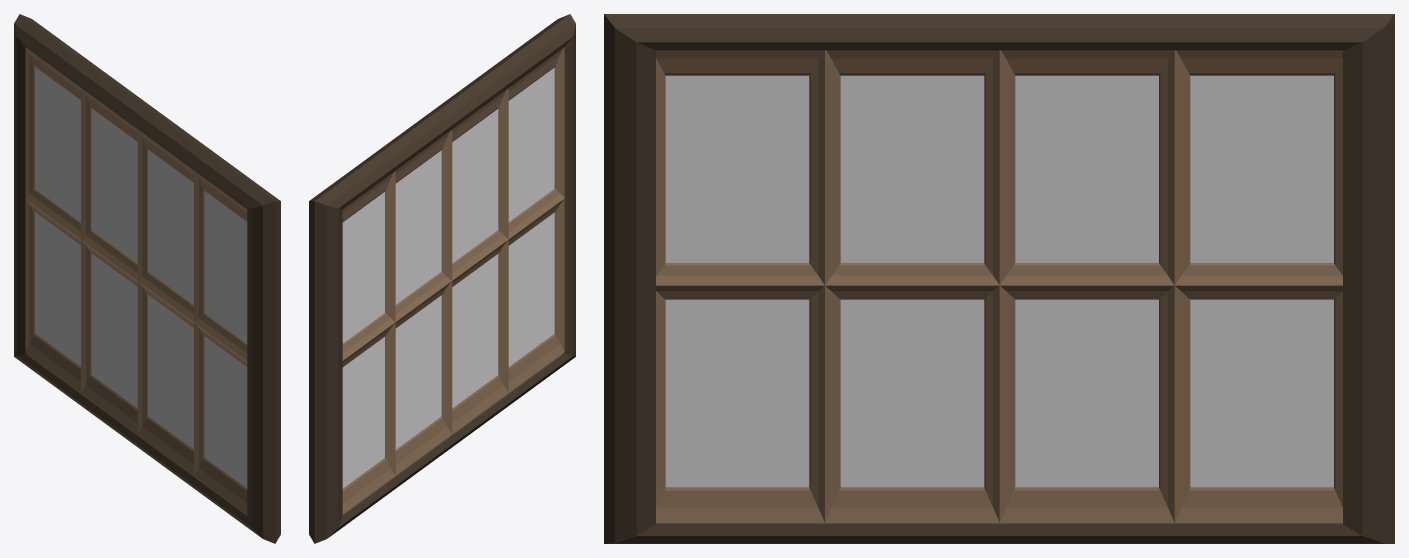
Rendered from WindowPrefab.fbx.
3 renders of one model, left to right at view 1: azimuth 30°, elevation 25°; view 2: azimuth 150°, elevation 25°; view 3: azimuth 270°, elevation 25°, orthographic. The views are drawn at different scales.
Visible parts, largest first — view 1: OutterFrame, Window_Right, Window_Left, Glass_1.001, Glass_1.006, Glass_1, Glass_1.007, Glass_1.002, Glass_1.005, Glass_1.004, Glass_1.003; view 2: OutterFrame, Window_Left, Window_Right, Glass_1.003, Glass_1.001, Glass_1.006, Glass_1.002, Glass_1.004, Glass_1.005, Glass_1.007, Glass_1; view 3: OutterFrame, Window_Right, Window_Left, Glass_1.004, Glass_1.005, Glass_1.002, Glass_1.003, Glass_1.006, Glass_1.007, Glass_1, Glass_1.001.
Boxes of the visible parts, bbox=[...] form: OutterFrame: bbox=[14, 14, 280, 543]; Window_Right: bbox=[137, 129, 247, 514]; Window_Left: bbox=[25, 47, 137, 434]; Glass_1.001: bbox=[91, 109, 137, 263]; Glass_1.006: bbox=[91, 254, 137, 408]; Glass_1: bbox=[35, 67, 80, 221]; Glass_1.007: bbox=[35, 212, 80, 366]; Glass_1.002: bbox=[148, 150, 193, 304]; Glass_1.005: bbox=[148, 295, 193, 449]; Glass_1.004: bbox=[204, 336, 247, 488]; Glass_1.003: bbox=[204, 191, 247, 343]; OutterFrame: bbox=[309, 14, 575, 543]; Window_Left: bbox=[342, 129, 452, 514]; Window_Right: bbox=[452, 47, 564, 434]; Glass_1.003: bbox=[508, 67, 554, 221]; Glass_1.001: bbox=[395, 150, 441, 304]; Glass_1.006: bbox=[395, 295, 441, 449]; Glass_1.002: bbox=[452, 109, 498, 263]; Glass_1.004: bbox=[508, 212, 554, 366]; Glass_1.005: bbox=[452, 254, 498, 408]; Glass_1.007: bbox=[342, 337, 384, 488]; Glass_1: bbox=[342, 192, 384, 343]; OutterFrame: bbox=[604, 14, 1394, 543]; Window_Right: bbox=[656, 50, 999, 523]; Window_Left: bbox=[999, 50, 1342, 523]; Glass_1.004: bbox=[665, 299, 809, 487]; Glass_1.005: bbox=[840, 299, 984, 487]; Glass_1.002: bbox=[840, 75, 984, 262]; Glass_1.003: bbox=[665, 75, 809, 262]; Glass_1.006: bbox=[1015, 299, 1158, 487]; Glass_1.007: bbox=[1190, 299, 1333, 487]; Glass_1: bbox=[1190, 75, 1333, 262]; Glass_1.001: bbox=[1015, 75, 1158, 262].
Bounding box in the file's own units: 27.31 × 334 × 452.
